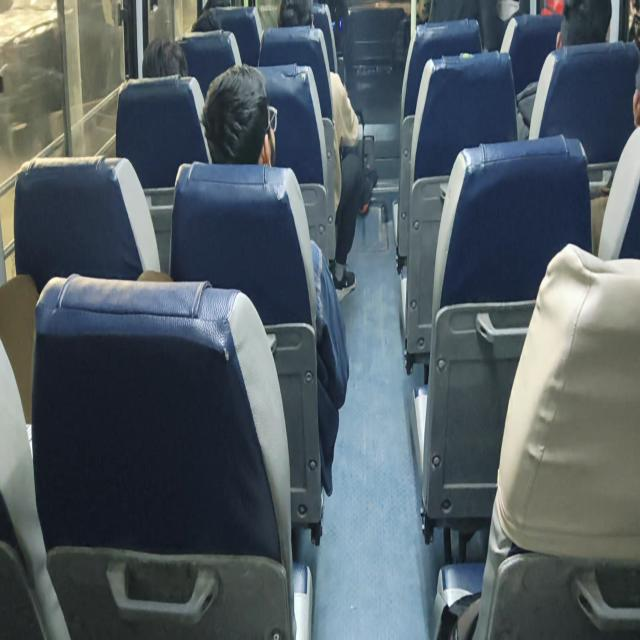person: (205, 64, 261, 179), (141, 36, 198, 102), (556, 2, 602, 66), (186, 3, 224, 51), (278, 6, 320, 45), (622, 59, 640, 141)
